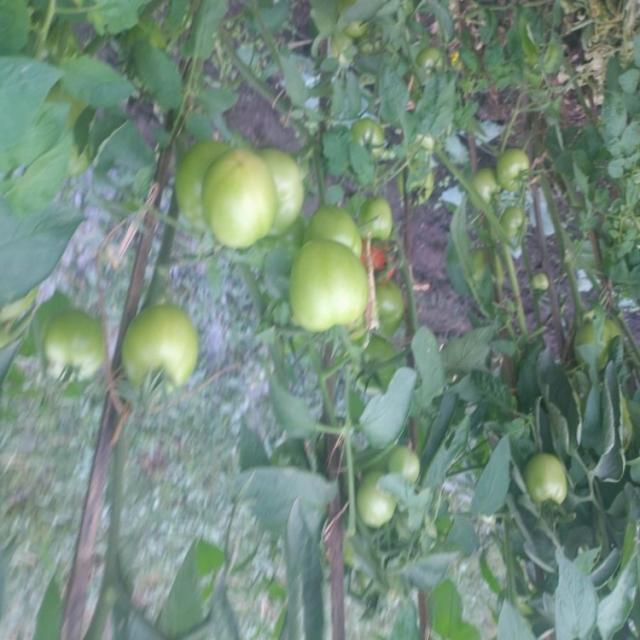tomato: (278, 244, 380, 344), (201, 135, 282, 258), (123, 299, 214, 396), (51, 306, 122, 380), (255, 142, 303, 234), (348, 476, 411, 539), (569, 302, 623, 372), (305, 196, 353, 270), (370, 276, 419, 339), (353, 181, 390, 244), (532, 459, 574, 514), (472, 164, 509, 218), (384, 444, 425, 490), (501, 142, 535, 193), (361, 111, 393, 164), (523, 264, 560, 303), (406, 179, 441, 220), (422, 41, 455, 77), (506, 205, 530, 239)
